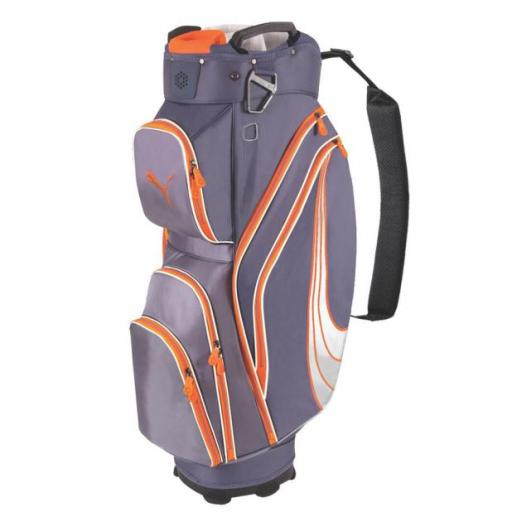Puma: (140, 162, 179, 212)
